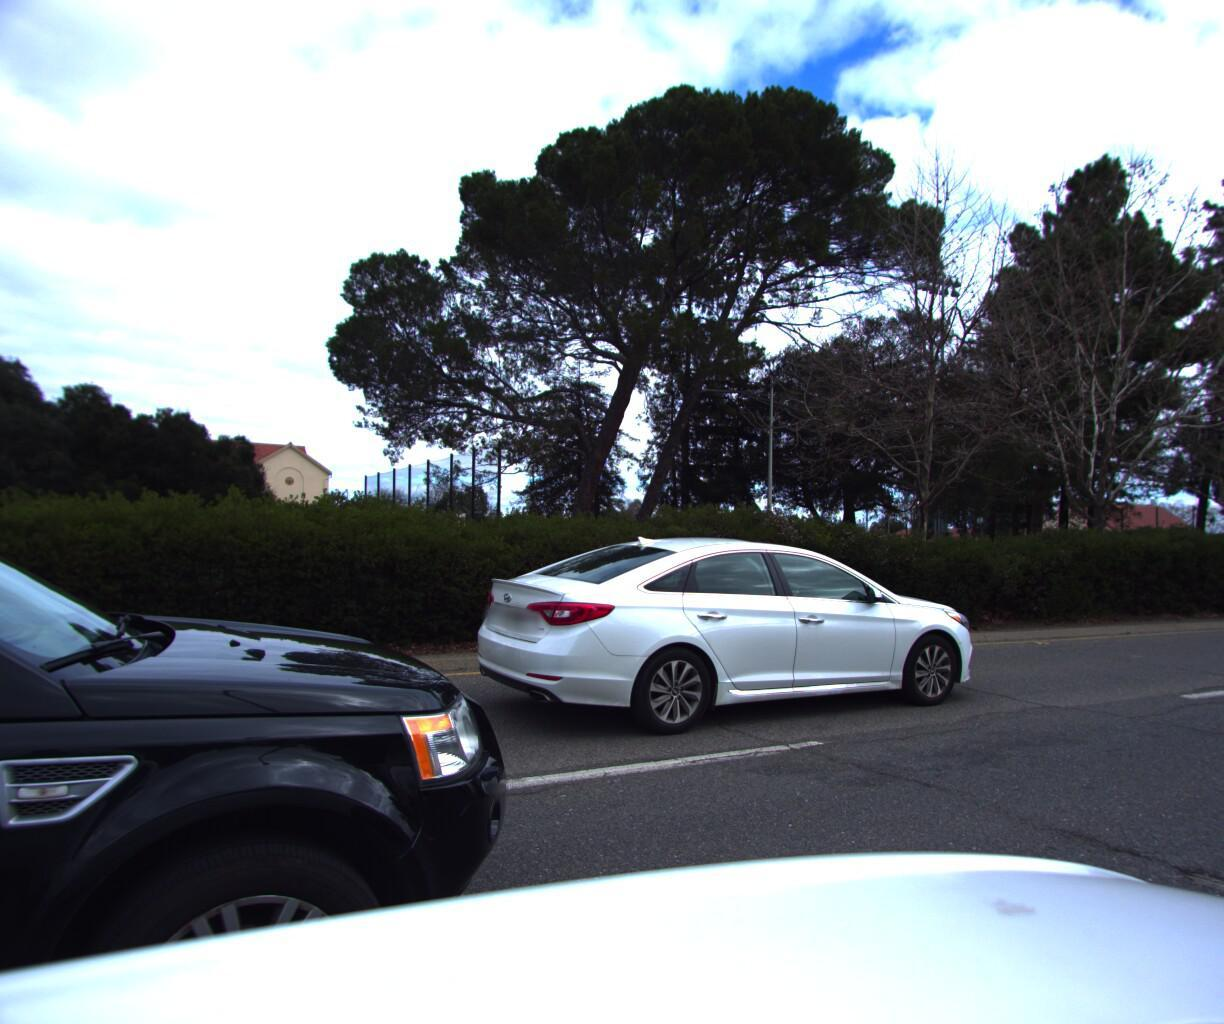car: (0, 0, 613, 1024), (444, 515, 993, 742)
